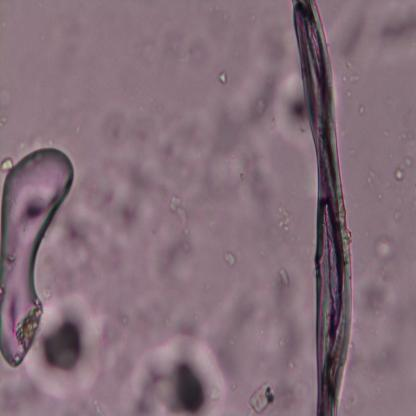Air bubble: (0, 145, 78, 368)
Background material: (121, 332, 230, 416), (30, 296, 106, 393), (90, 158, 154, 235), (237, 136, 282, 216), (270, 264, 302, 360), (277, 72, 311, 147), (357, 267, 401, 324), (327, 10, 371, 63), (158, 226, 194, 283), (57, 207, 103, 245), (247, 72, 279, 121), (374, 19, 416, 44), (249, 377, 278, 413), (168, 193, 194, 228), (104, 110, 130, 144), (391, 149, 416, 183), (340, 60, 361, 100), (372, 231, 398, 260), (274, 204, 294, 235), (224, 246, 246, 270), (217, 70, 232, 85), (356, 104, 368, 118)
Cotton: (292, 0, 352, 416)
